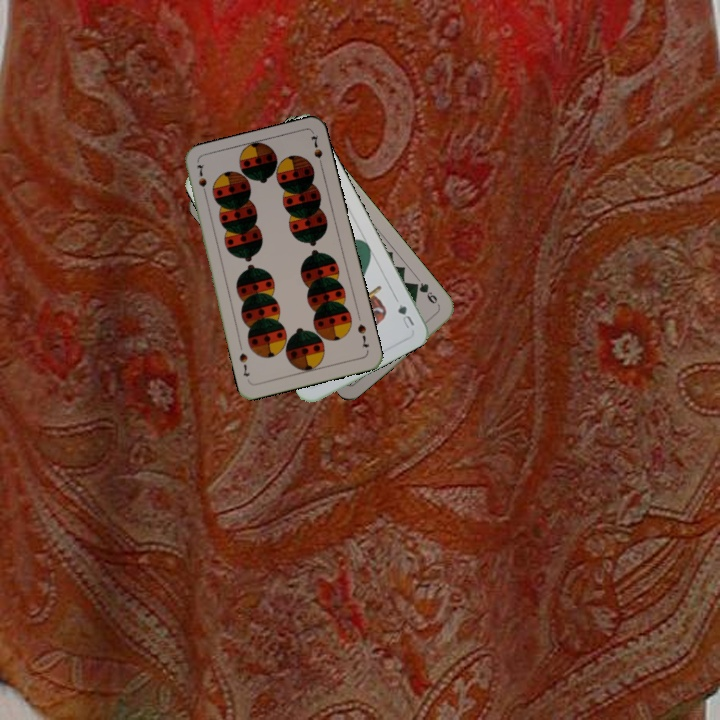G9: (409, 278, 440, 306)
GU: (394, 300, 417, 331)
S7: (193, 160, 210, 200), (353, 320, 372, 350)
